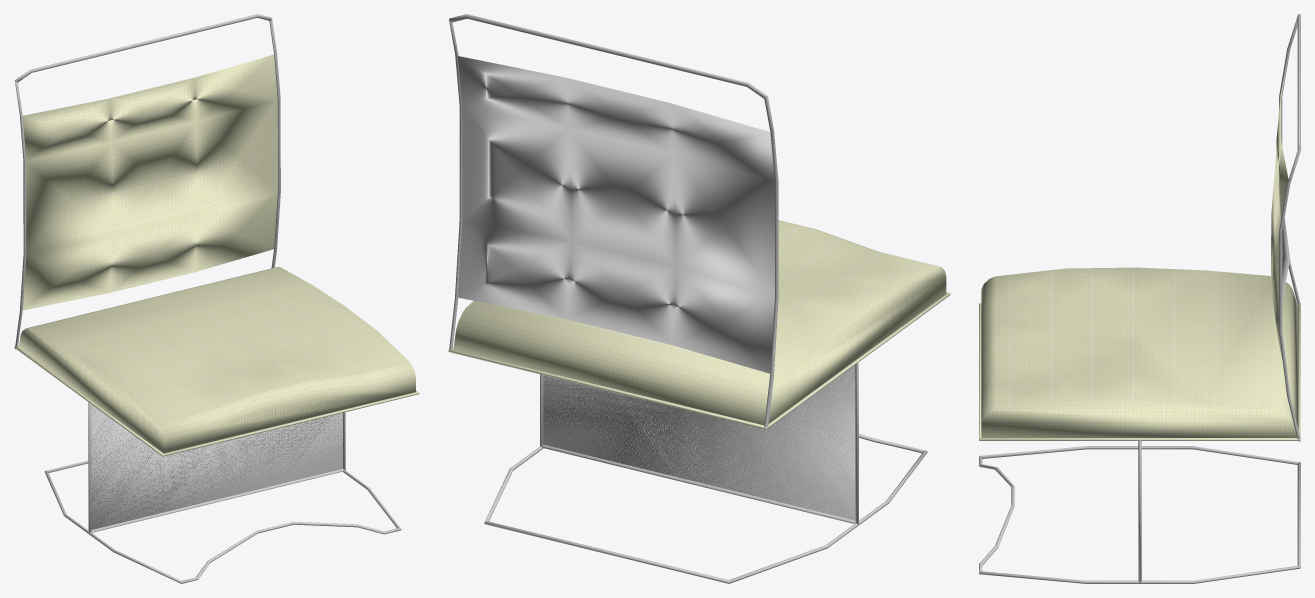
File: FashionChair.fbx
3 renders of one model, left to right at view 1: azimuth 30°, elevation 25°; view 2: azimuth 150°, elevation 25°; view 3: azimuth 270°, elevation 25°, orthographic. The views are drawn at different scales.
Visible parts, largest first — view 1: default; view 2: default; view 3: default.
Part boxes in pixels (x1,y1,x2,y2): default: (14,14,419,583); default: (448,14,950,583); default: (979,14,1300,583).
Bounding box in the file's own units: 1000 × 1516 × 1000.
